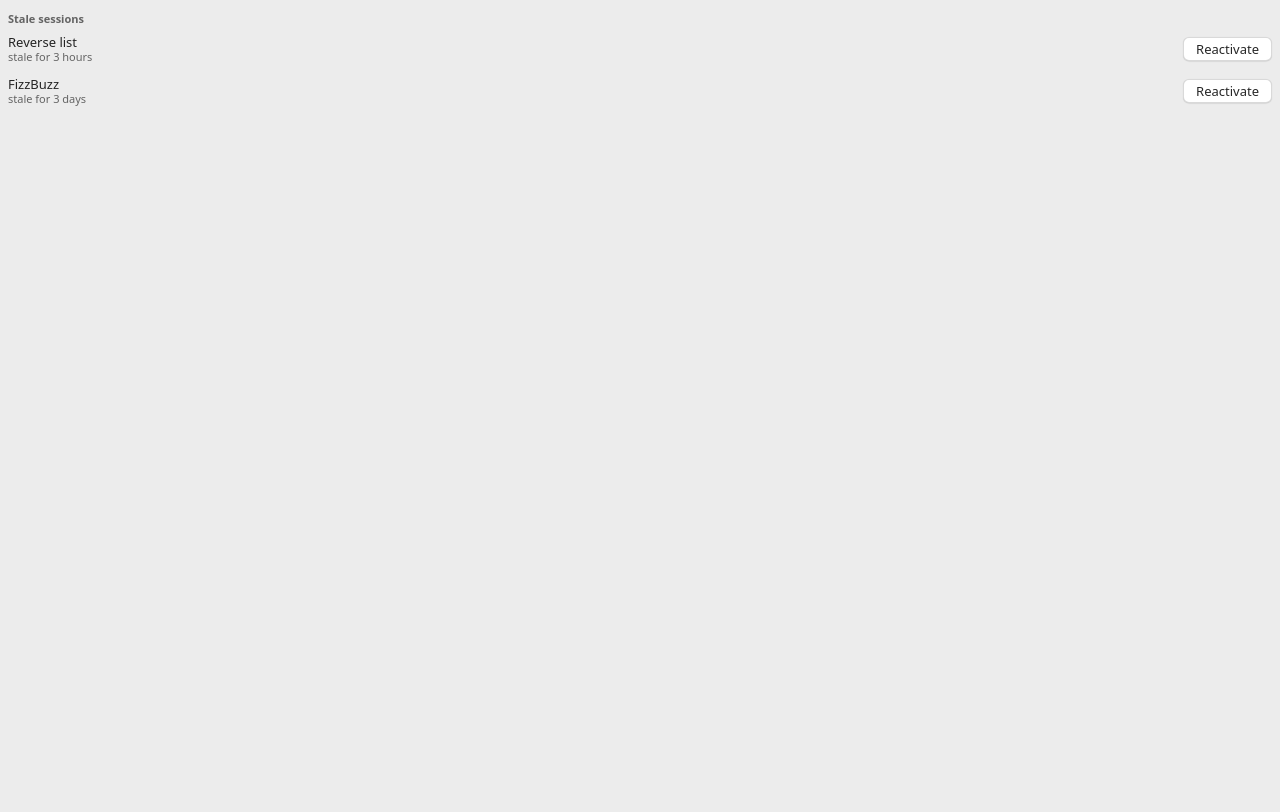
Test: StaleSessionsList › Reactivate removes the row and confirms with a HUD
Check: the link "Reverse list stale for 3 hours" is shown, box [8, 33, 92, 64]
Click the button with aria-label "Reactivate Reverse list" at (1228, 49), box [1183, 37, 1272, 61]
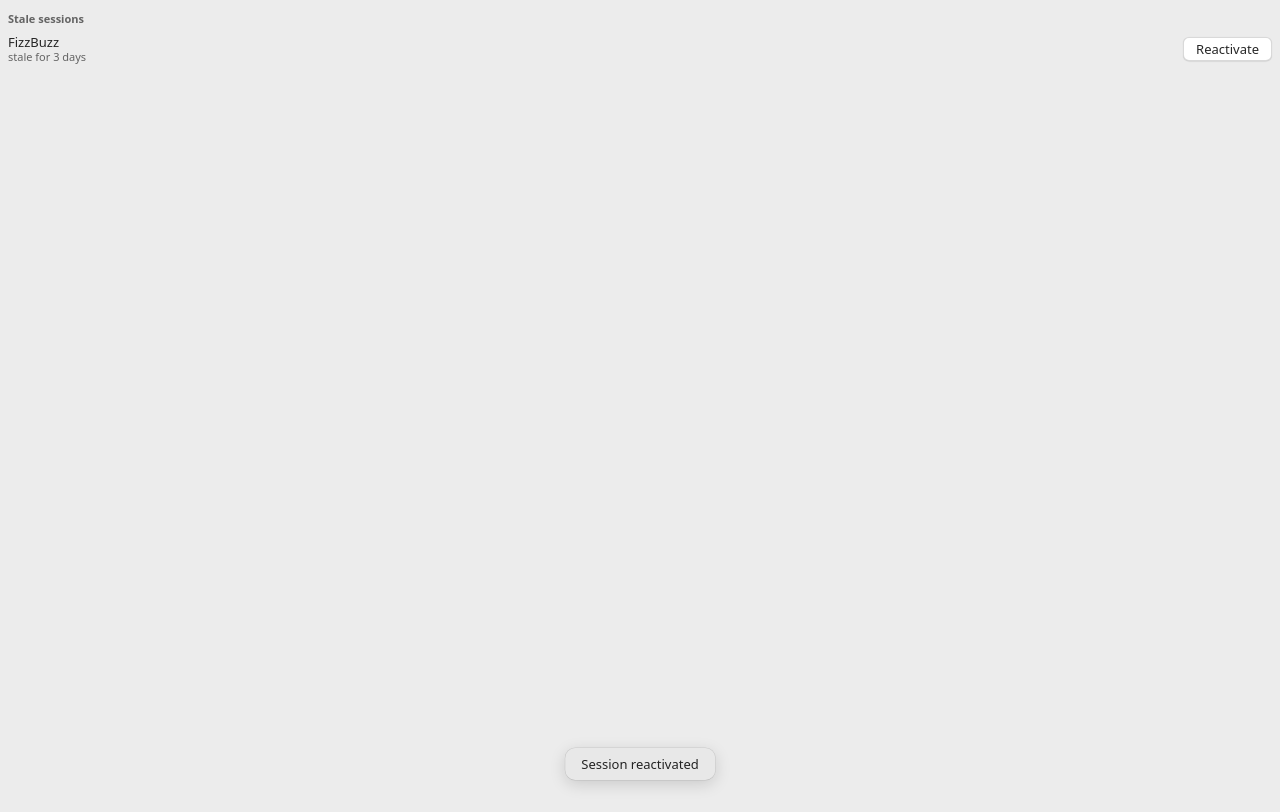
Check: the link "FizzBuzz stale for 3 days" is shown, box [8, 33, 86, 64]
Check: the link "Reverse list" is gone
Check: the message reads "Session reactivated", box [581, 755, 699, 773]
